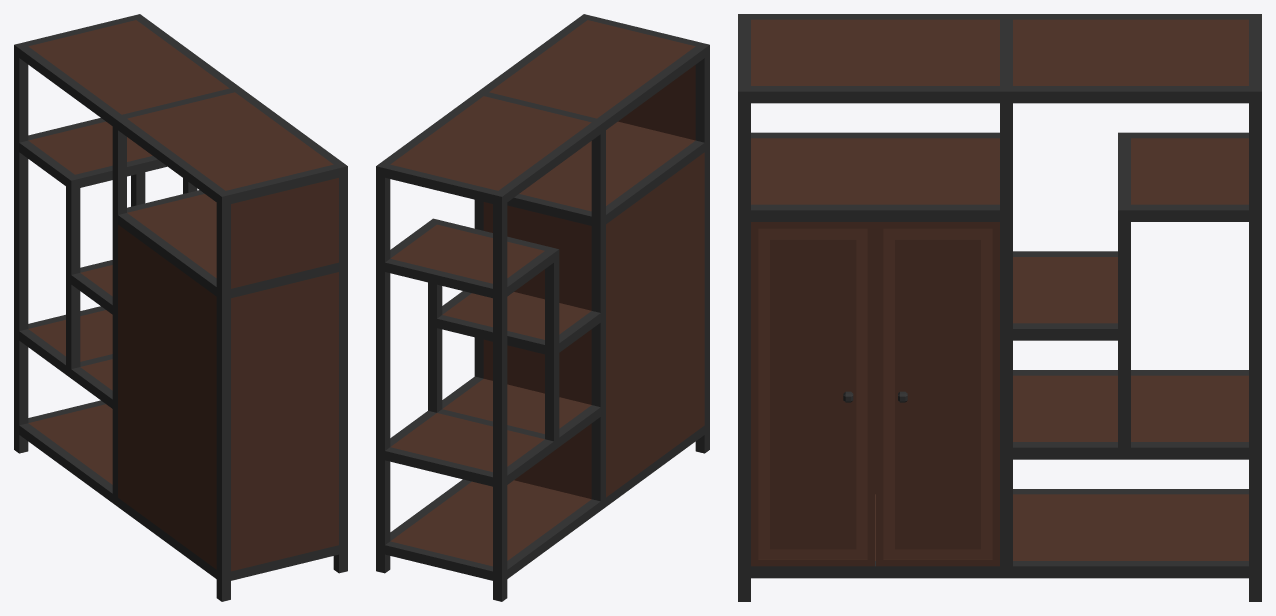
Rendered from kast.fbx.
The picture shows the model from 3 angles, left to right: view 1: azimuth 30°, elevation 25°; view 2: azimuth 150°, elevation 25°; view 3: azimuth 270°, elevation 25°; orthographic projection. The views are drawn at different scales.
Parts seen in each view (by area): view 1: kast; view 2: kast; view 3: kast, deur1, deur2.
Part boxes in pixels (x1,y1,x2,y2): kast: (14, 14, 347, 601); kast: (376, 14, 709, 601); kast: (738, 14, 1261, 601); deur1: (876, 222, 999, 566); deur2: (751, 222, 874, 566).
Bounding box in the file's own units: 0.744 × 2.15 × 2.
